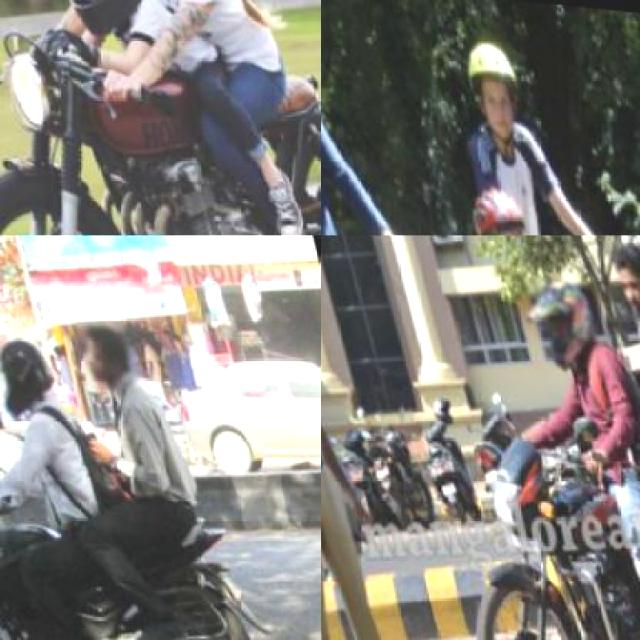With Helmet: (509, 259, 603, 370), (456, 21, 527, 130), (0, 323, 60, 422), (454, 172, 537, 234)
Without Helmet: (72, 306, 140, 388), (602, 236, 638, 316)
